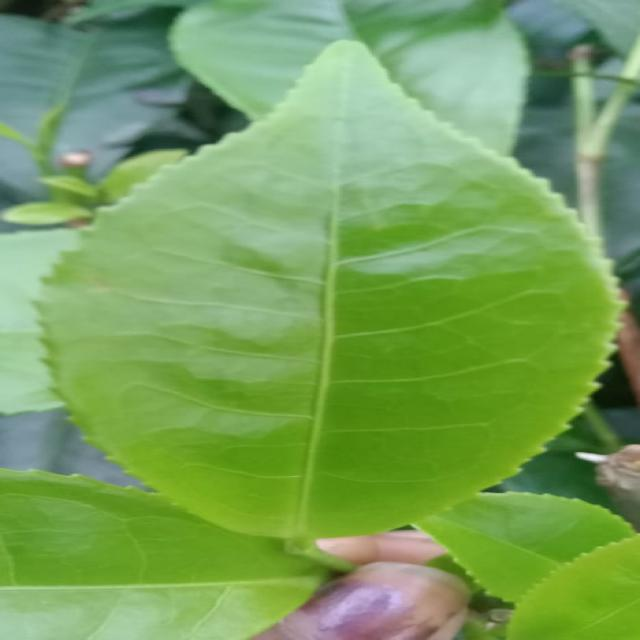Category B(2-4 days): (31, 22, 640, 544)
